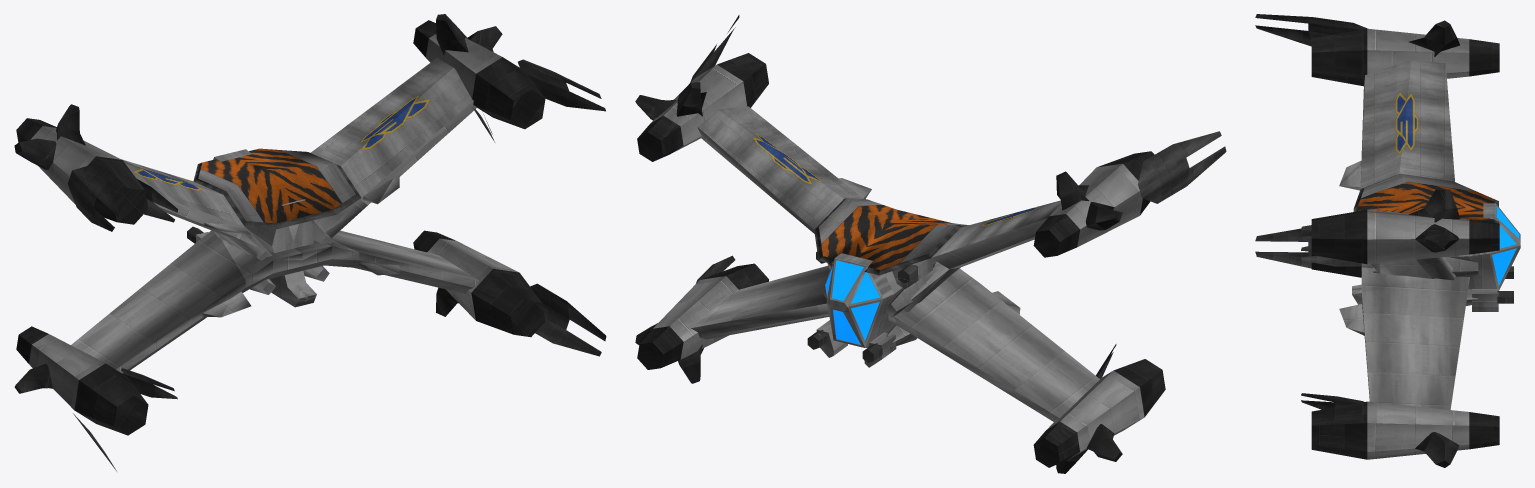
The model's file is nova-starfury.glb.
The picture shows the model from 3 angles, left to right: view 1: azimuth 30°, elevation 25°; view 2: azimuth 150°, elevation 25°; view 3: azimuth 270°, elevation 25°; orthographic projection. The views are drawn at different scales.
Parts seen in each view (by area): view 1: starfury; view 2: starfury; view 3: starfury.
Boxes of the visible parts, box(x1,y1,x2,y2) form: starfury: box(14, 14, 606, 471); starfury: box(635, 15, 1226, 473); starfury: box(1255, 14, 1520, 467).
Size of the model in its own units: 13.25 by 7.68 by 6.66.
Materials: 6 (5 with a texture image).
